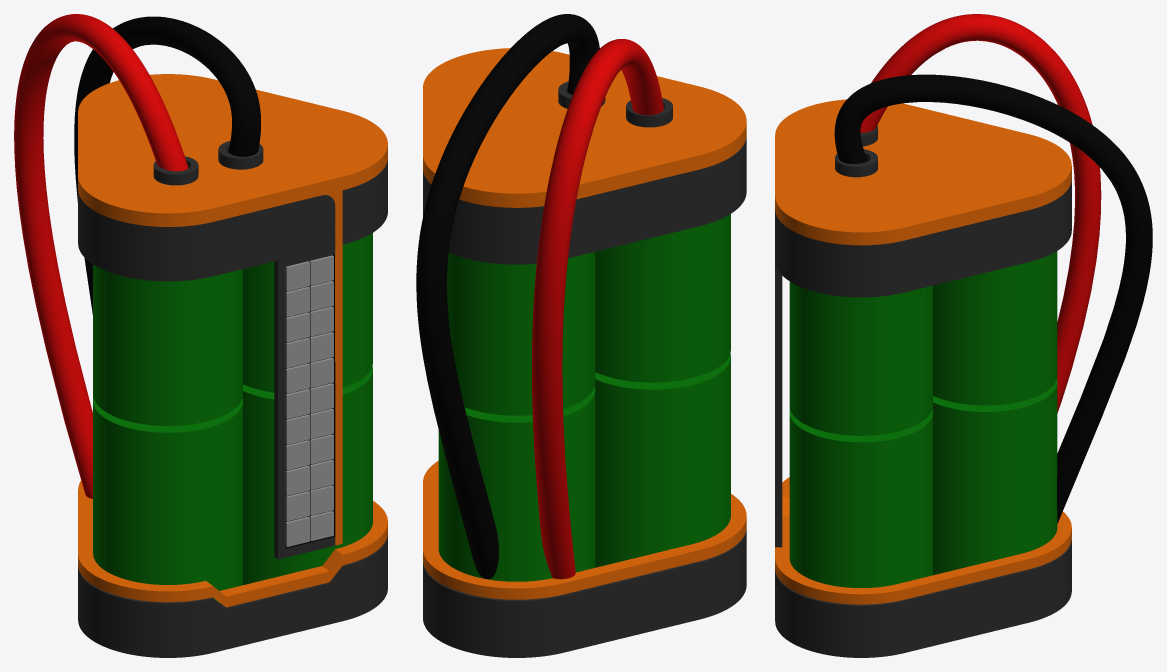
File: batteryLabeled.glb
The picture shows the model from 3 angles, left to right: view 1: azimuth 30°, elevation 25°; view 2: azimuth 150°, elevation 25°; view 3: azimuth 270°, elevation 25°; orthographic projection. The views are drawn at different scales.
Visible parts, largest first — view 1: Mesh_0, Mesh_2, Mesh_1, Mesh_5, Mesh_4, 14, 16, 18, 6, 8, 10, 4 (+15 smaller); view 2: Mesh_0, Mesh_2, Mesh_1, Mesh_4, Mesh_5; view 3: Mesh_0, Mesh_2, Mesh_1, Mesh_4, Mesh_5.
Boxes of the visible parts, box(x1,y1,x2,y2) form: Mesh_0: box(93, 195, 372, 603); Mesh_2: box(78, 74, 387, 607); Mesh_1: box(78, 141, 387, 657); Mesh_5: box(14, 14, 188, 498); Mesh_4: box(74, 16, 335, 548); 14: box(285, 363, 309, 393); 16: box(285, 338, 309, 368); 18: box(285, 312, 309, 342); 6: box(285, 465, 309, 495); 8: box(285, 440, 309, 470); 10: box(285, 414, 309, 444); 4: box(285, 491, 309, 521); Mesh_0: box(438, 214, 730, 581); Mesh_2: box(423, 48, 746, 599); Mesh_1: box(423, 81, 746, 657); Mesh_4: box(416, 14, 599, 578); Mesh_5: box(532, 39, 663, 579); Mesh_0: box(789, 251, 1057, 587); Mesh_2: box(775, 99, 1071, 604); Mesh_1: box(775, 125, 1071, 657); Mesh_4: box(834, 74, 1152, 523); Mesh_5: box(860, 14, 1101, 413).
Size of the model in its own units: 2.2 by 4.13 by 2.63.
